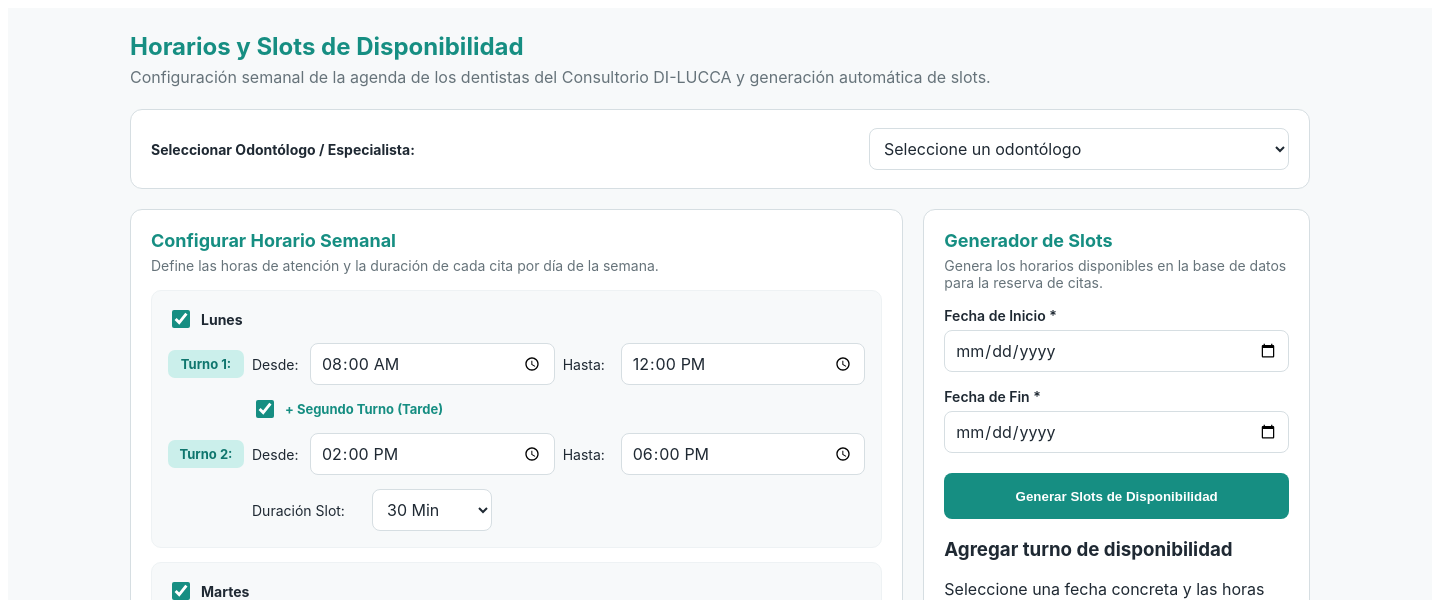
Test: AvailabilityPageComponent › shows empty state when dentist has no availability intervals
Select "Dentist test" in the dropdown labelled "Seleccionar Odontólogo / Especialista:" at (1079, 149), box [869, 128, 1289, 170]
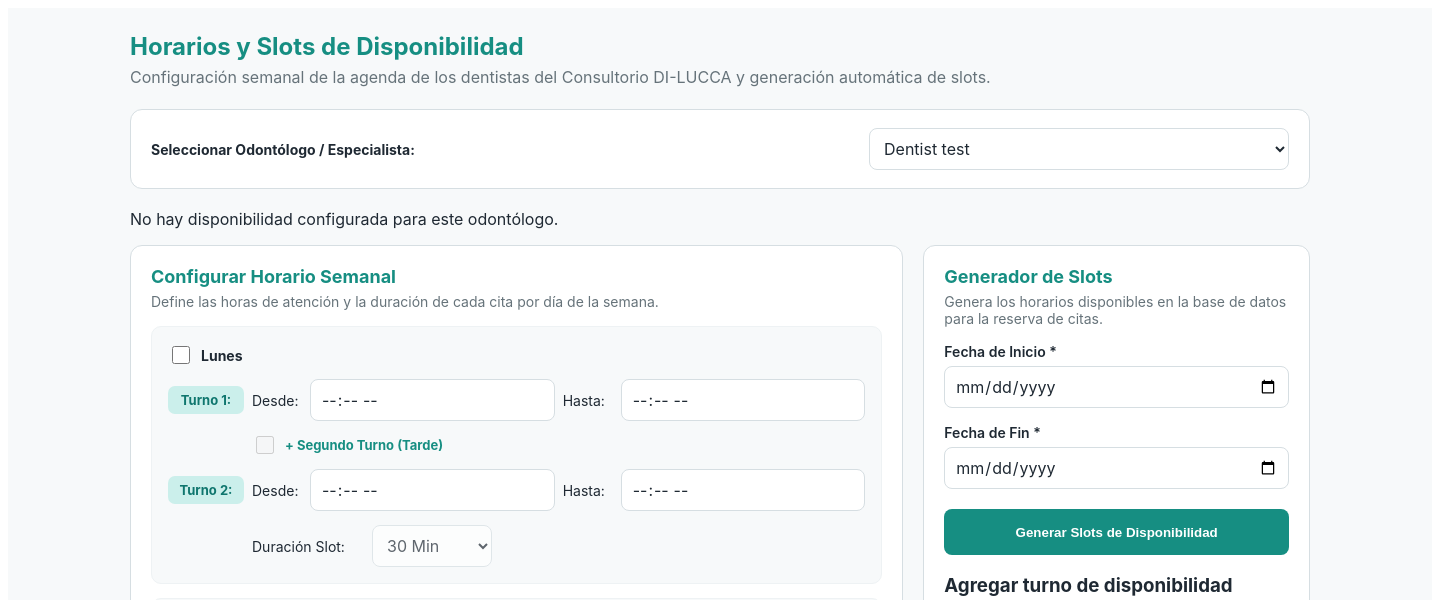
Result: the text "No hay disponibilidad configurada para este odontólogo." is shown at [130, 209, 558, 229]
